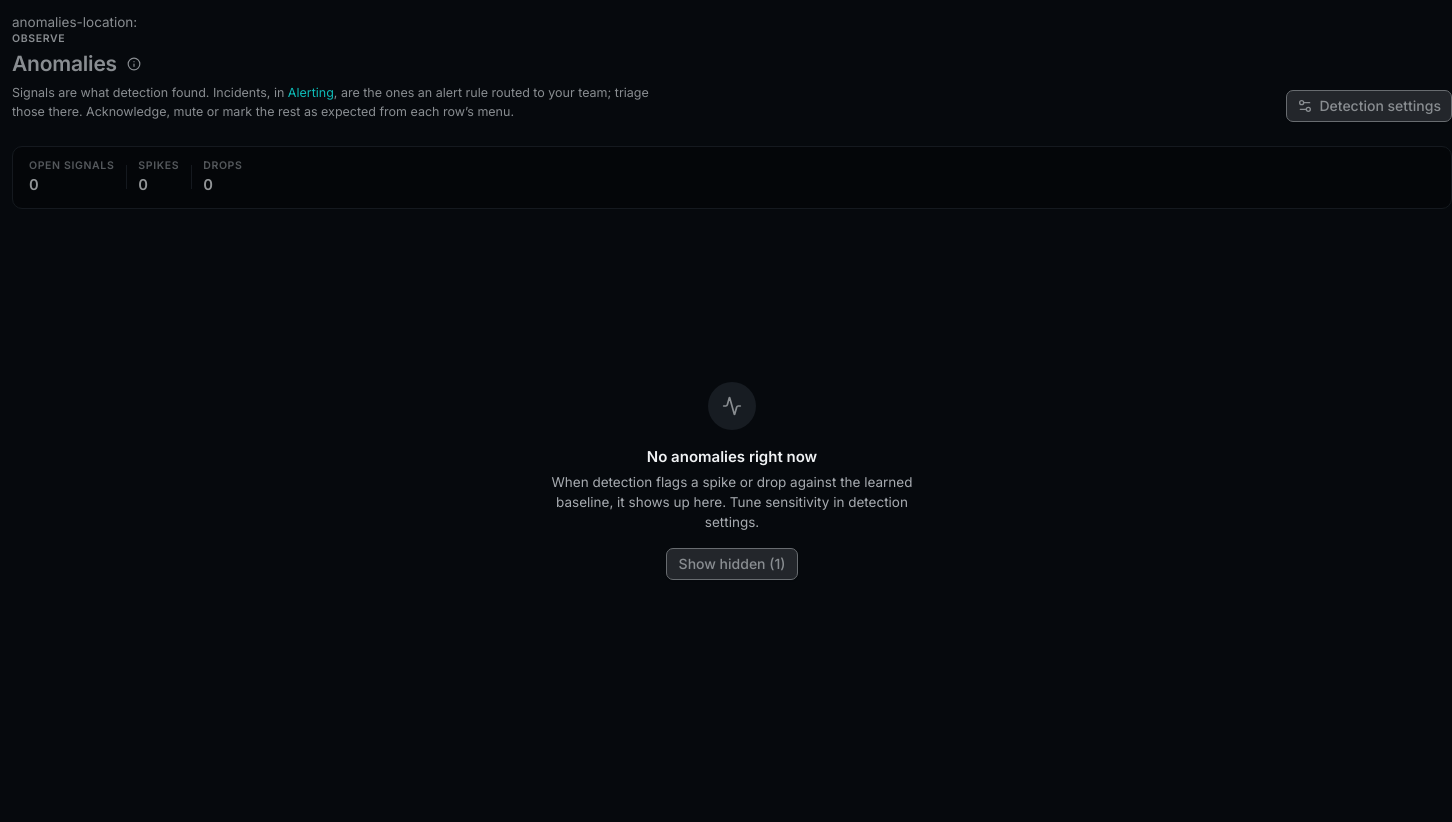
AnomaliesPage — hidden signals (MO-4 / JR-5) › offers "Show hidden" from the empty state when every open signal is hidden
The width and height of the screenshot is (1452, 822).
Expected: the heading "No anomalies right now" is shown, [647,446,817,468]
Step 1. Click the button "Show hidden (1)" → (732, 564), box [666,548,798,580]
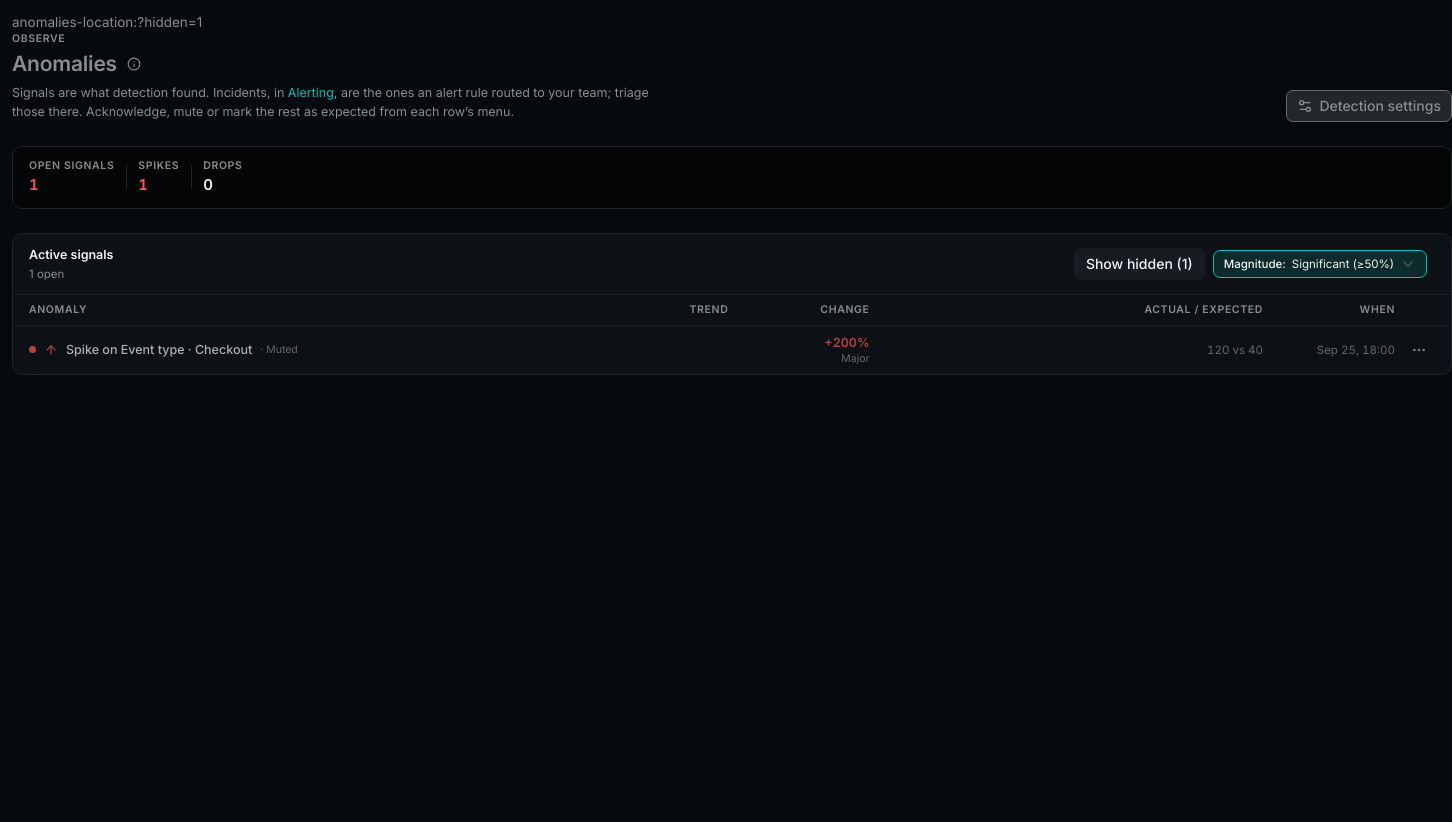
Expected: the text "anomalies-location:?hidden=1" is shown, [12,14,202,30]
